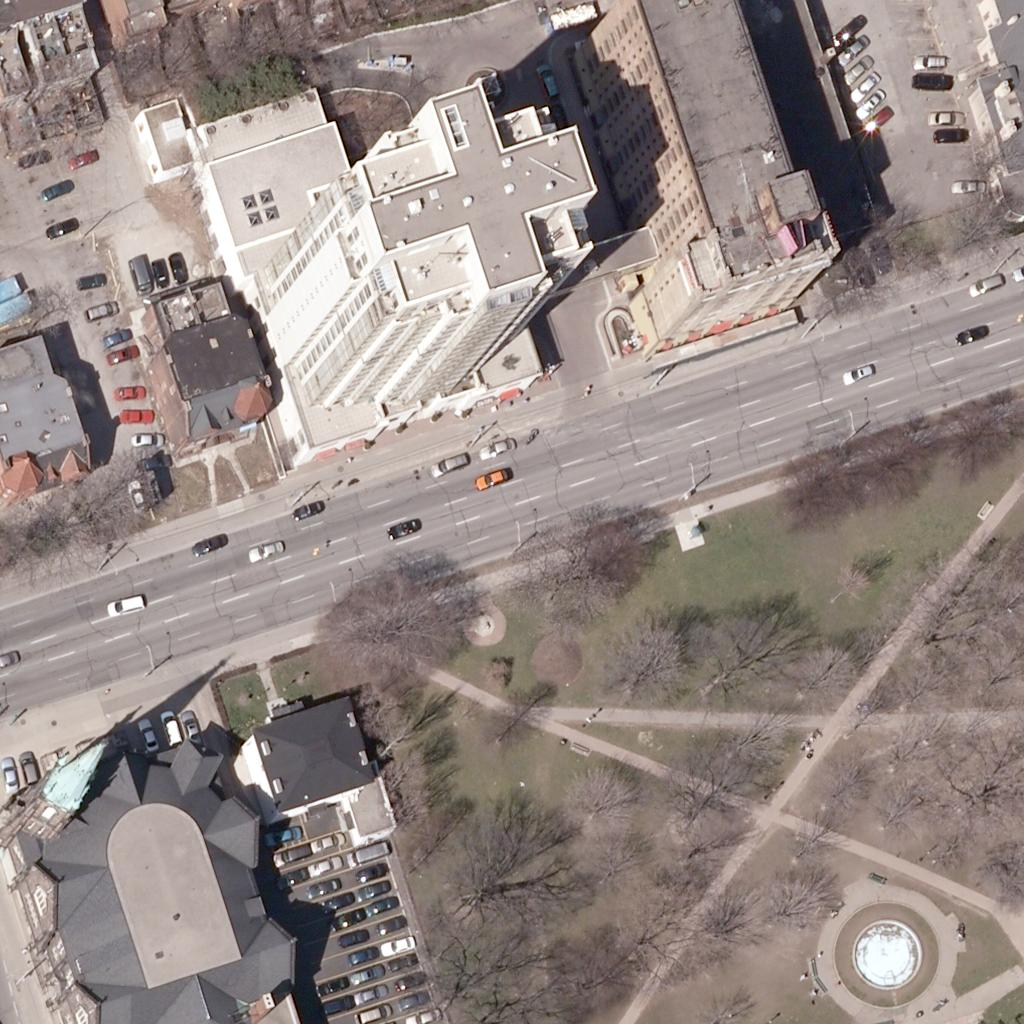car: (826, 18, 860, 52), (836, 30, 870, 64), (914, 43, 948, 77), (840, 52, 874, 86), (531, 63, 565, 97), (919, 63, 953, 97), (847, 67, 881, 101), (852, 85, 886, 119), (927, 100, 961, 134), (860, 101, 894, 135), (931, 116, 965, 150), (17, 140, 51, 174), (63, 141, 97, 175), (951, 168, 985, 202), (41, 172, 75, 206), (46, 209, 80, 243), (864, 239, 898, 273), (846, 245, 880, 279), (159, 248, 193, 282), (142, 254, 176, 288), (124, 260, 158, 294), (74, 262, 108, 296), (968, 265, 1002, 299), (86, 290, 120, 324), (100, 317, 134, 351), (951, 317, 985, 351), (105, 337, 139, 371), (844, 354, 878, 388), (112, 373, 146, 407), (117, 398, 151, 432), (128, 421, 162, 455), (482, 429, 516, 463), (434, 444, 468, 478), (478, 458, 512, 492), (118, 481, 152, 515), (293, 489, 327, 523), (388, 509, 422, 543), (193, 524, 227, 558), (250, 531, 284, 565), (107, 587, 141, 621), (173, 708, 207, 742), (155, 709, 189, 743), (128, 717, 162, 751), (11, 751, 45, 785), (268, 816, 302, 850), (310, 825, 344, 859), (275, 834, 309, 868), (344, 836, 378, 870), (307, 847, 341, 881), (353, 853, 387, 887), (275, 857, 309, 891), (307, 869, 341, 903), (358, 871, 392, 905), (322, 882, 356, 916), (362, 888, 396, 922), (328, 899, 362, 933), (371, 908, 405, 942), (333, 918, 367, 952), (381, 927, 415, 961), (343, 936, 377, 970), (382, 941, 416, 975), (349, 957, 383, 991), (391, 965, 425, 999), (314, 966, 348, 1000), (351, 976, 385, 1010), (395, 982, 429, 1016), (319, 988, 353, 1022), (358, 993, 392, 1024), (0, 756, 26, 790), (405, 1000, 439, 1024), (0, 642, 18, 676)
